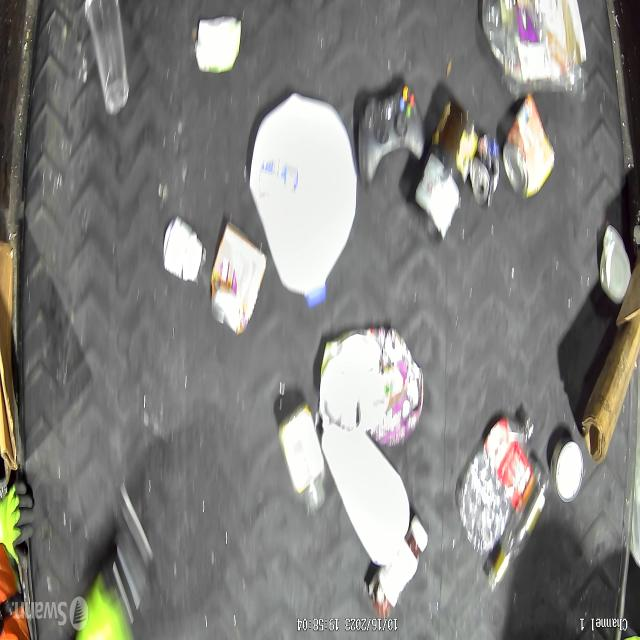can: (211, 217, 265, 351), (503, 100, 558, 212), (465, 127, 508, 217)
milk_jug: (246, 82, 360, 306)
plastic_bottle: (458, 416, 536, 548)
